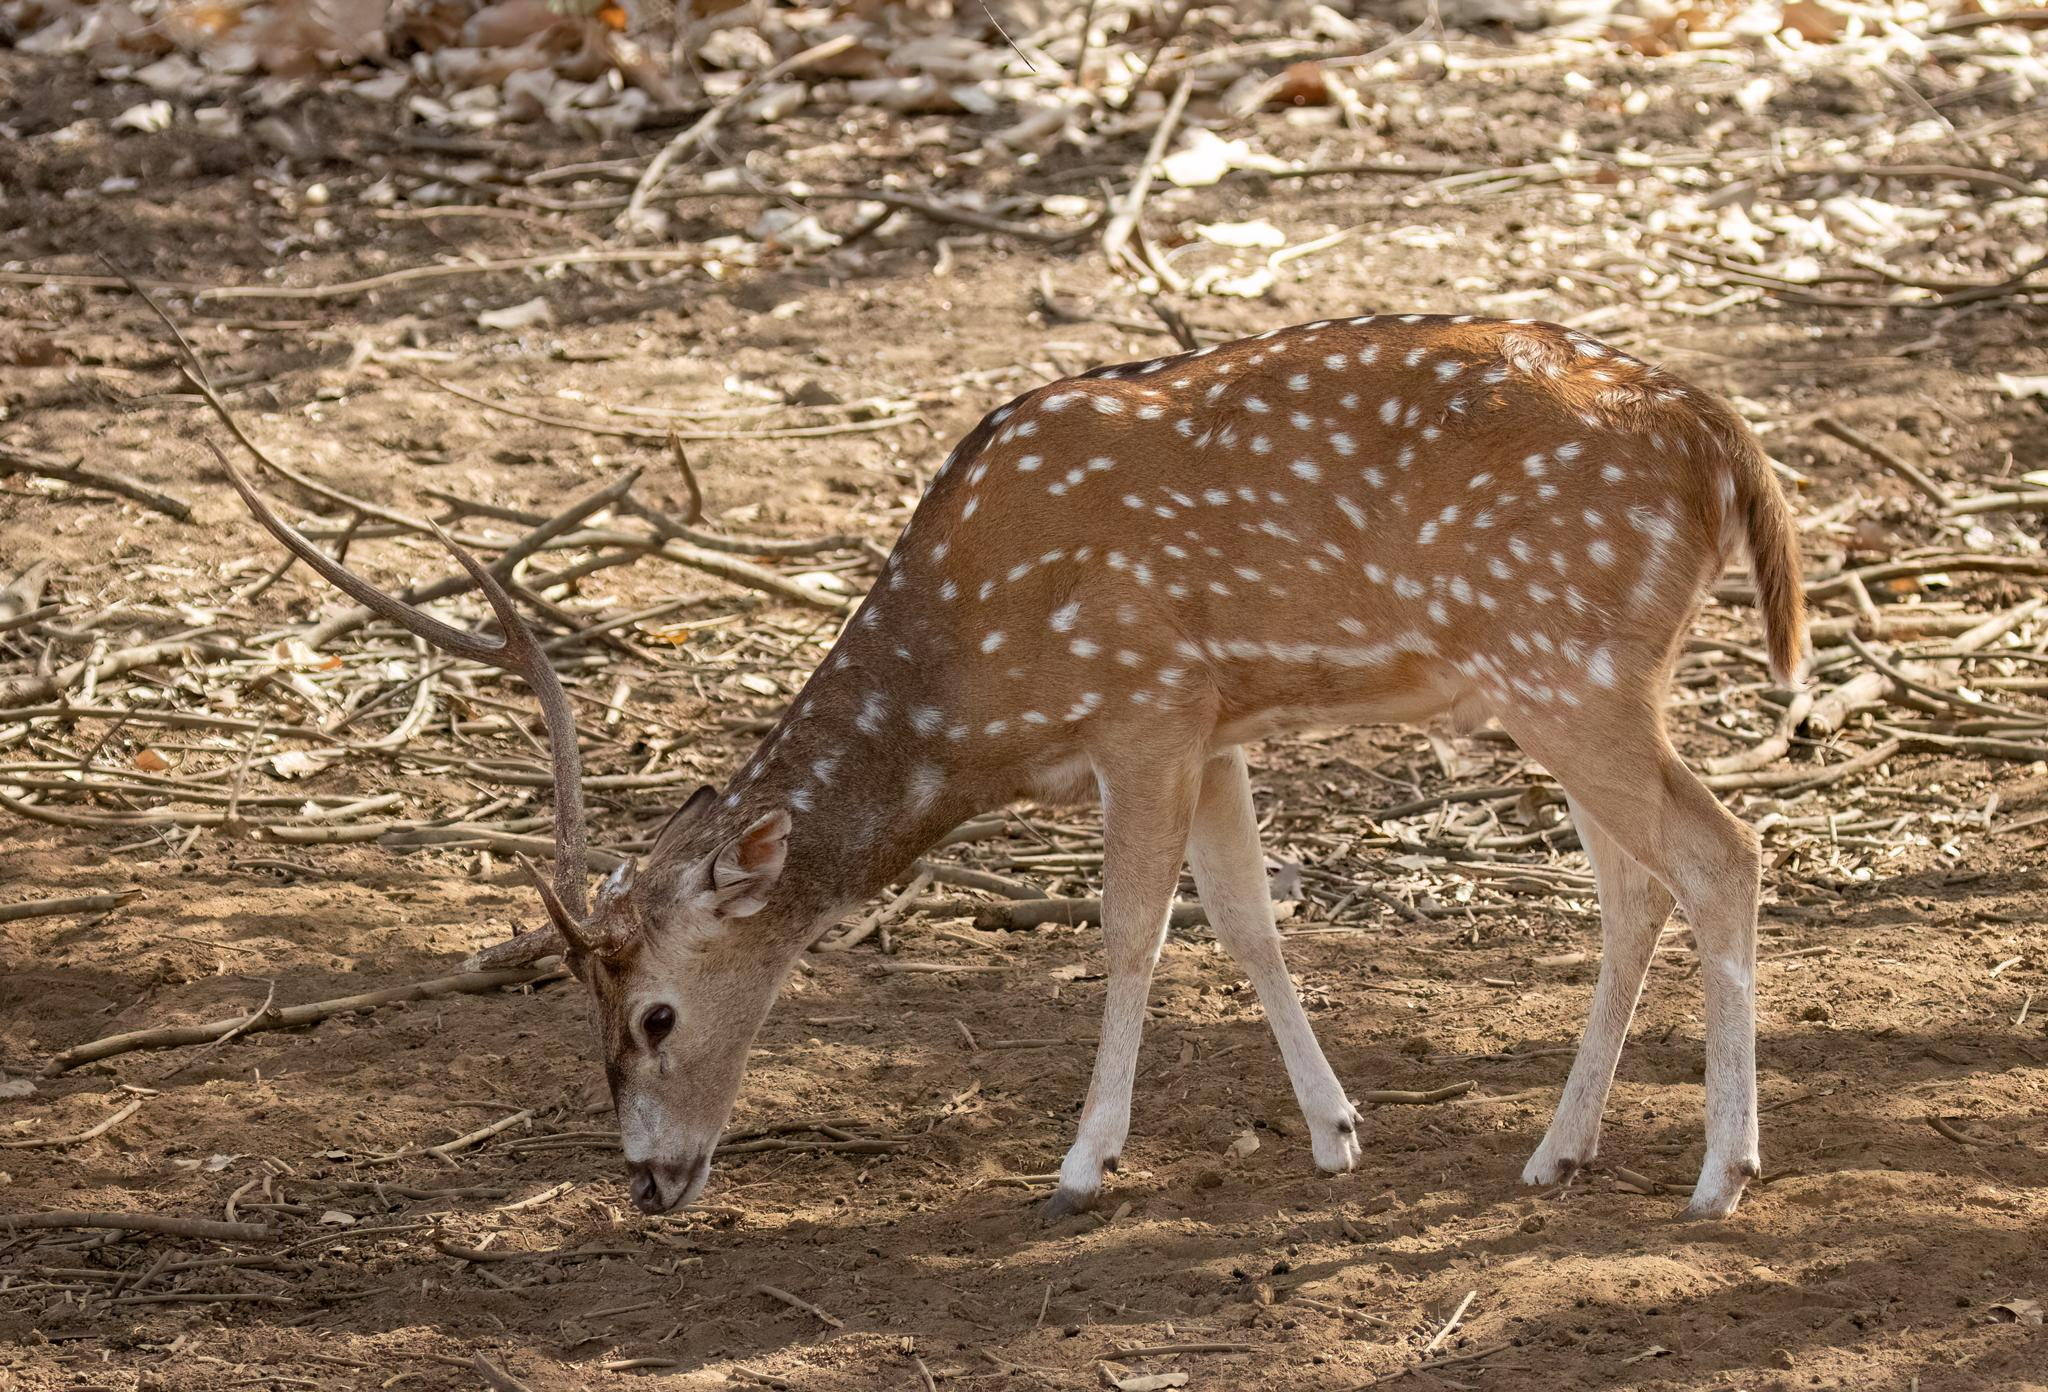Deer: (241, 315, 1807, 1218)
